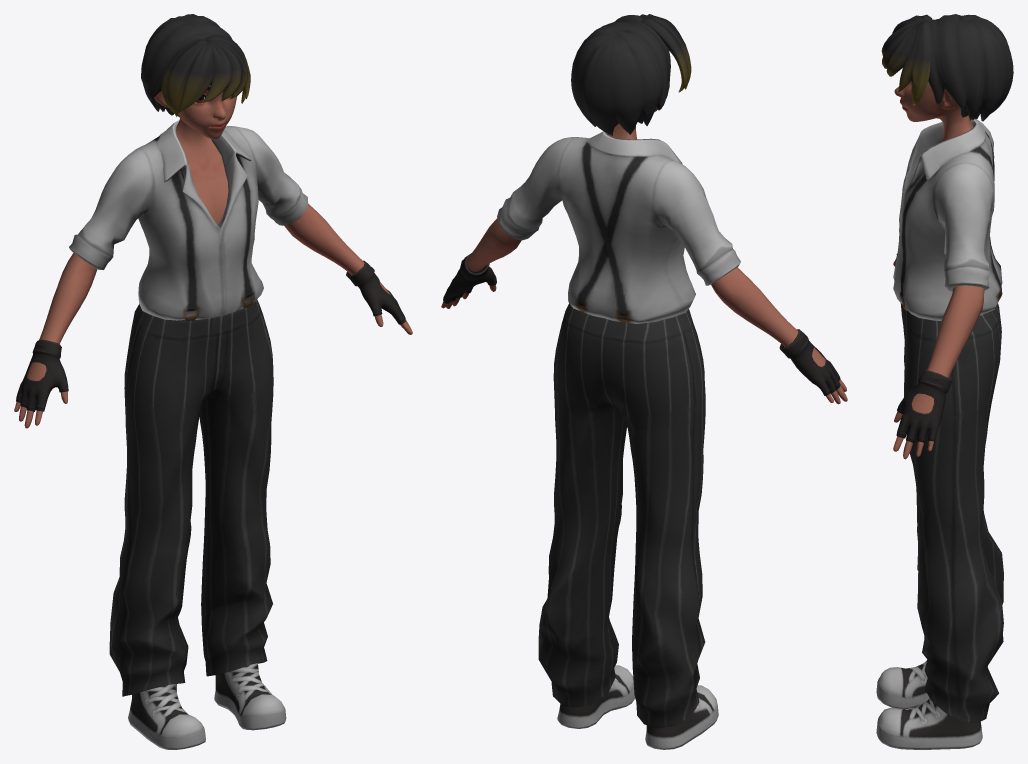
The model's file is StaffJavi_Mesh.obj.
3 views of the same model, side by side, from view 1: azimuth 30°, elevation 25°; view 2: azimuth 150°, elevation 25°; view 3: azimuth 270°, elevation 25° (orthographic).
Parts seen in each view (by area): view 1: StaffJavi_Mesh_0; view 2: StaffJavi_Mesh_0; view 3: StaffJavi_Mesh_0.
Boxes of the visible parts, left/top/right/bottom form: StaffJavi_Mesh_0: left=14, top=14, right=412, bottom=749; StaffJavi_Mesh_0: left=441, top=14, right=847, bottom=749; StaffJavi_Mesh_0: left=876, top=14, right=1013, bottom=749.
Bounding box in the file's own units: 1.06 × 1.8 × 0.3191.
1 material, 1 textured.
